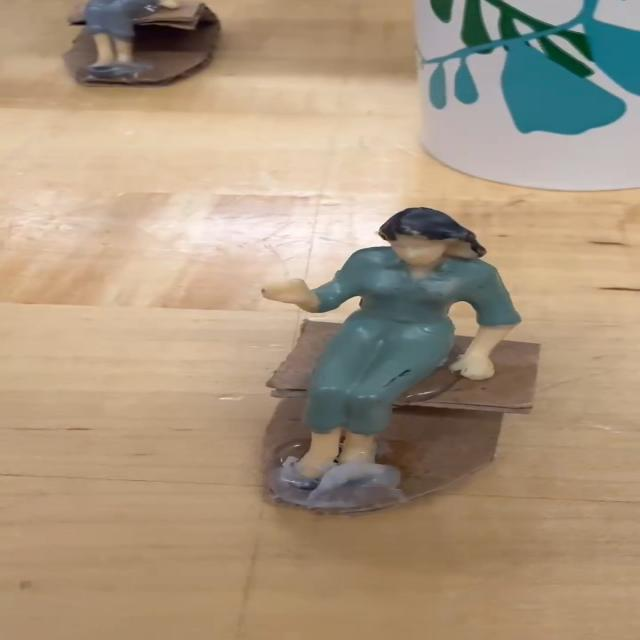Authorized: (240, 189, 508, 527)
